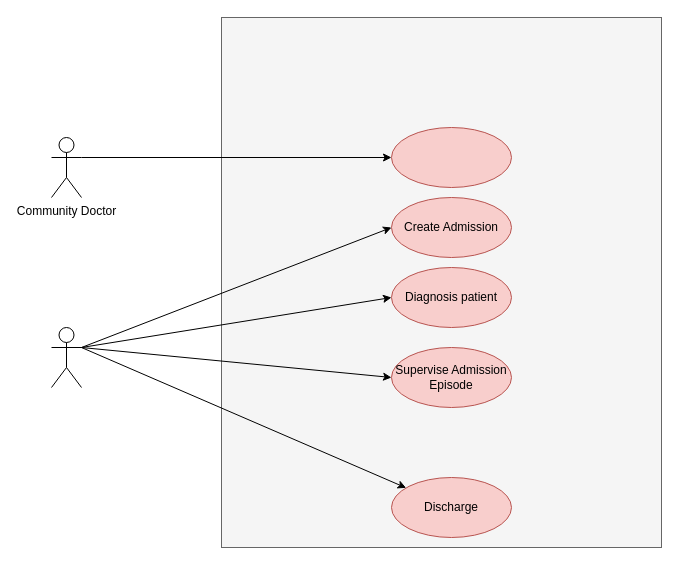
Image size: 679x565. Some labels were removed from this diagram. The box of each missing label's shape, as (x1, y1, x2, y2) in pixels:
Hospital Doctor: (50, 326, 82, 388)
Refer Patient to hospital: (390, 126, 512, 188)
